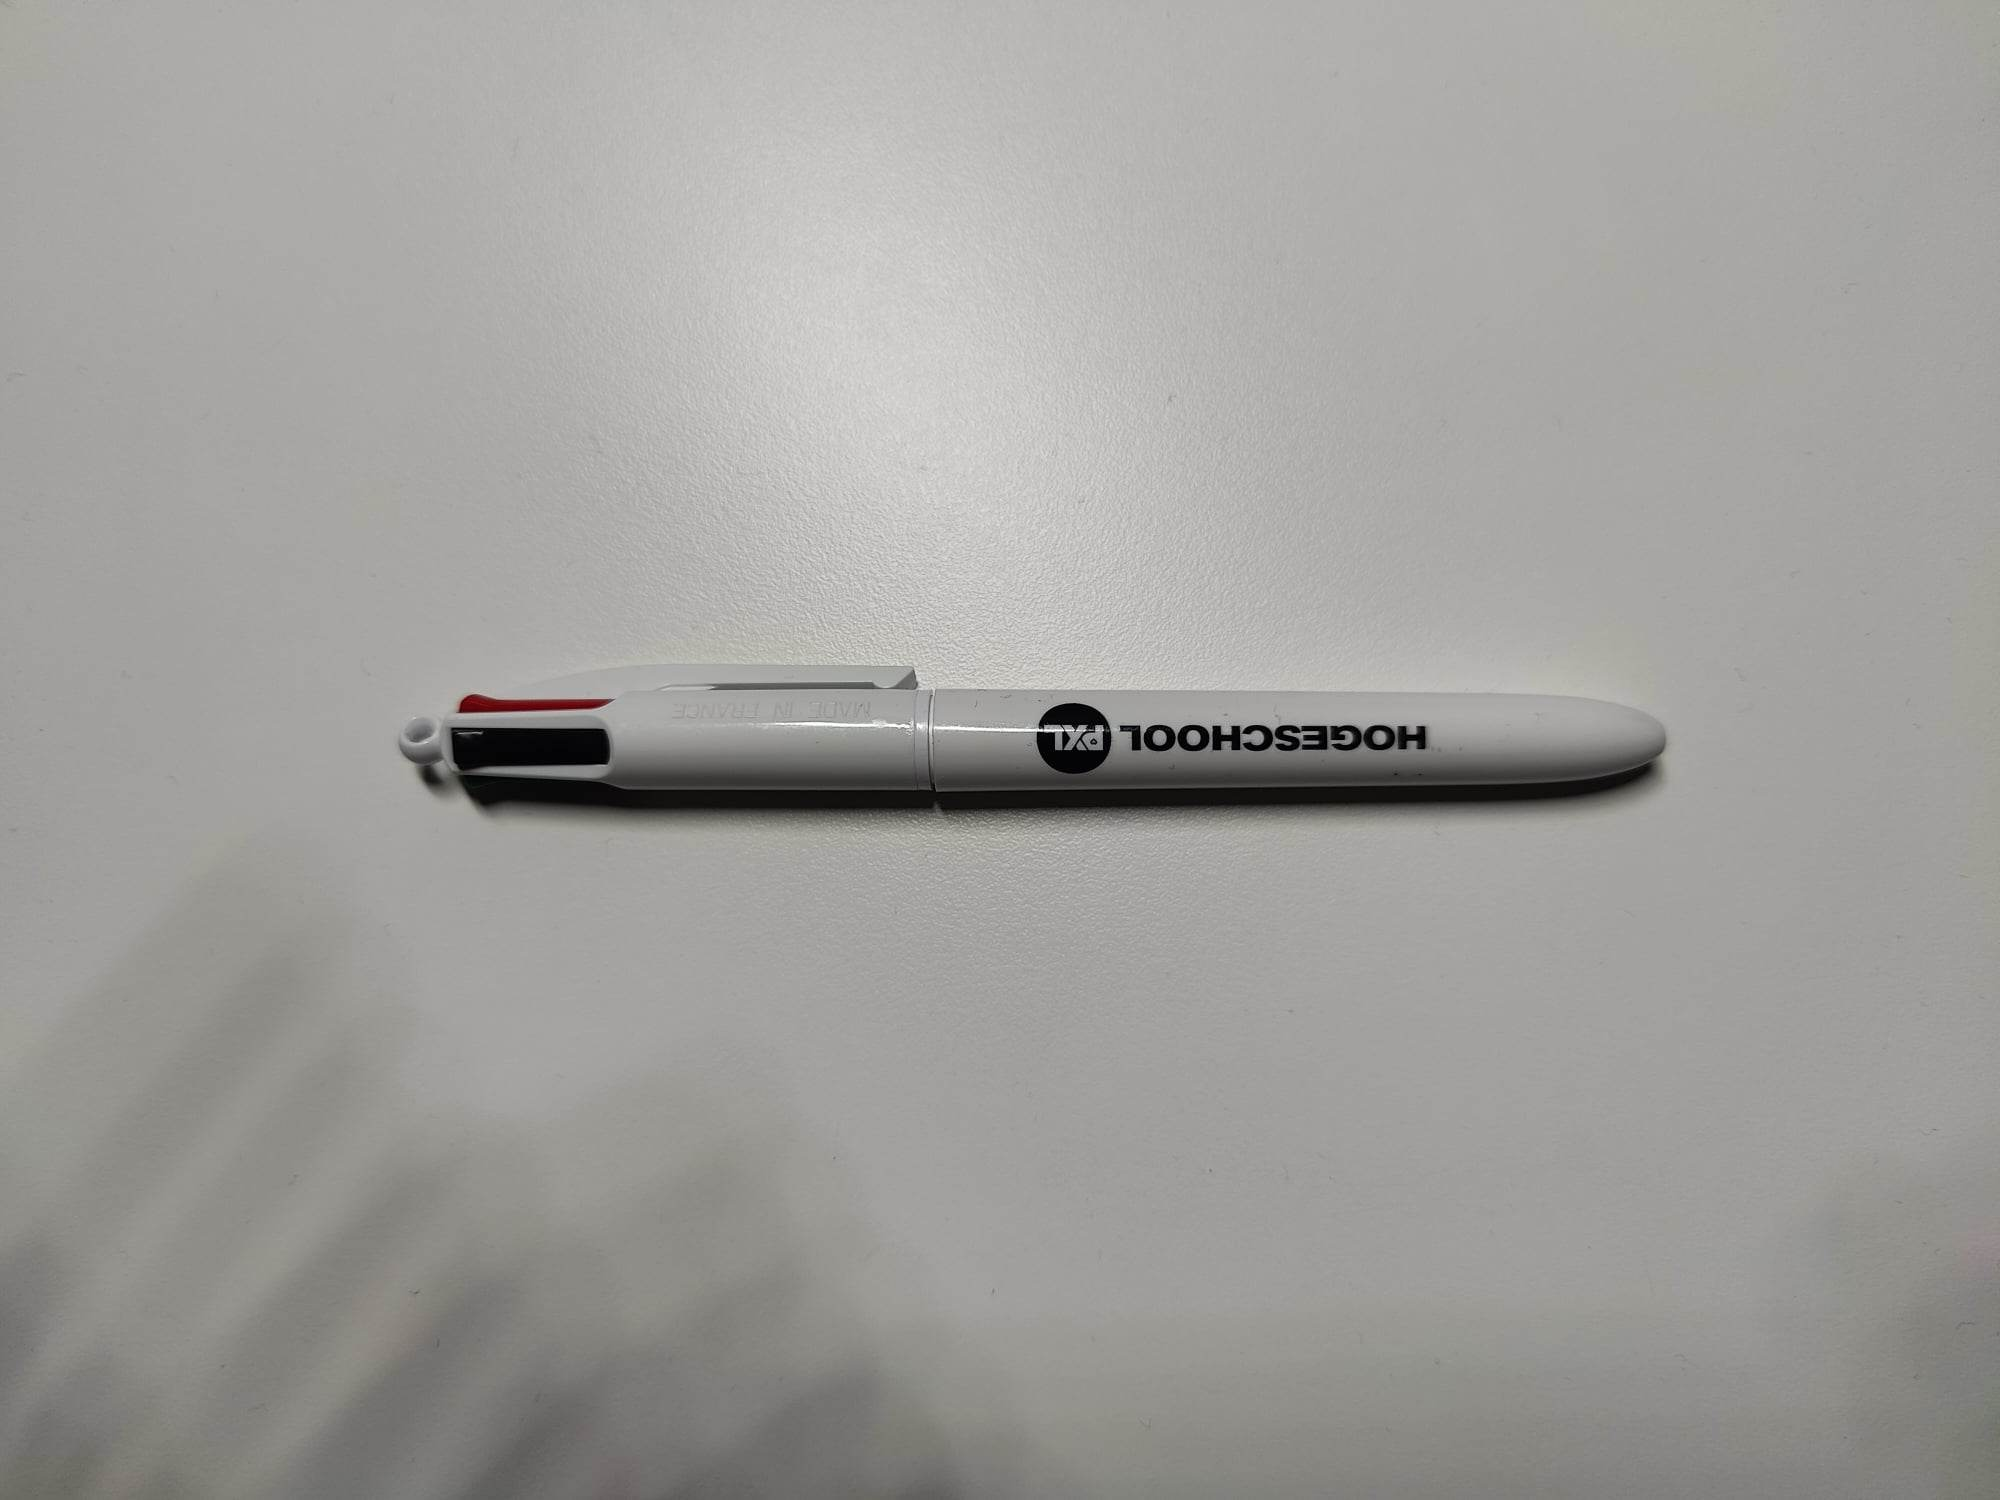Pen: (346, 630, 1717, 867)
